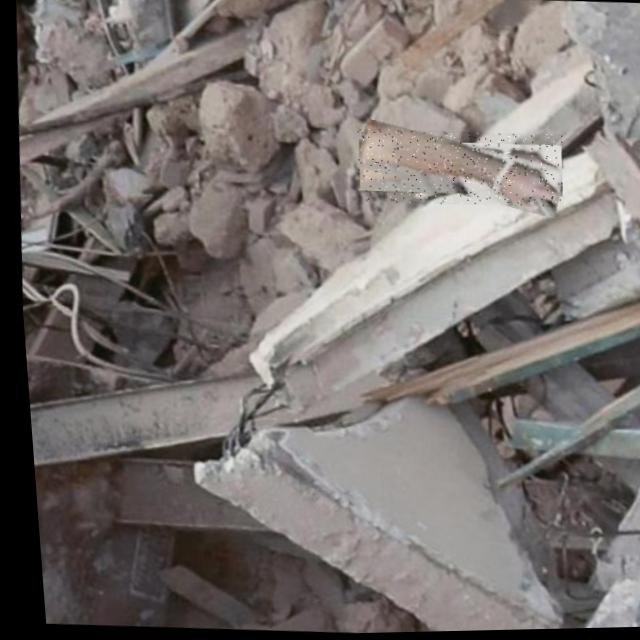Person in Rubble: (351, 125, 564, 213)
